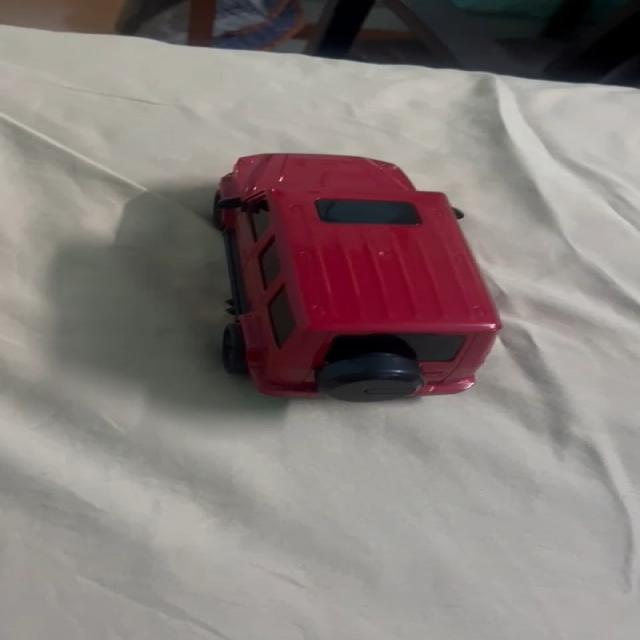light_vehicle: (199, 146, 503, 400)
